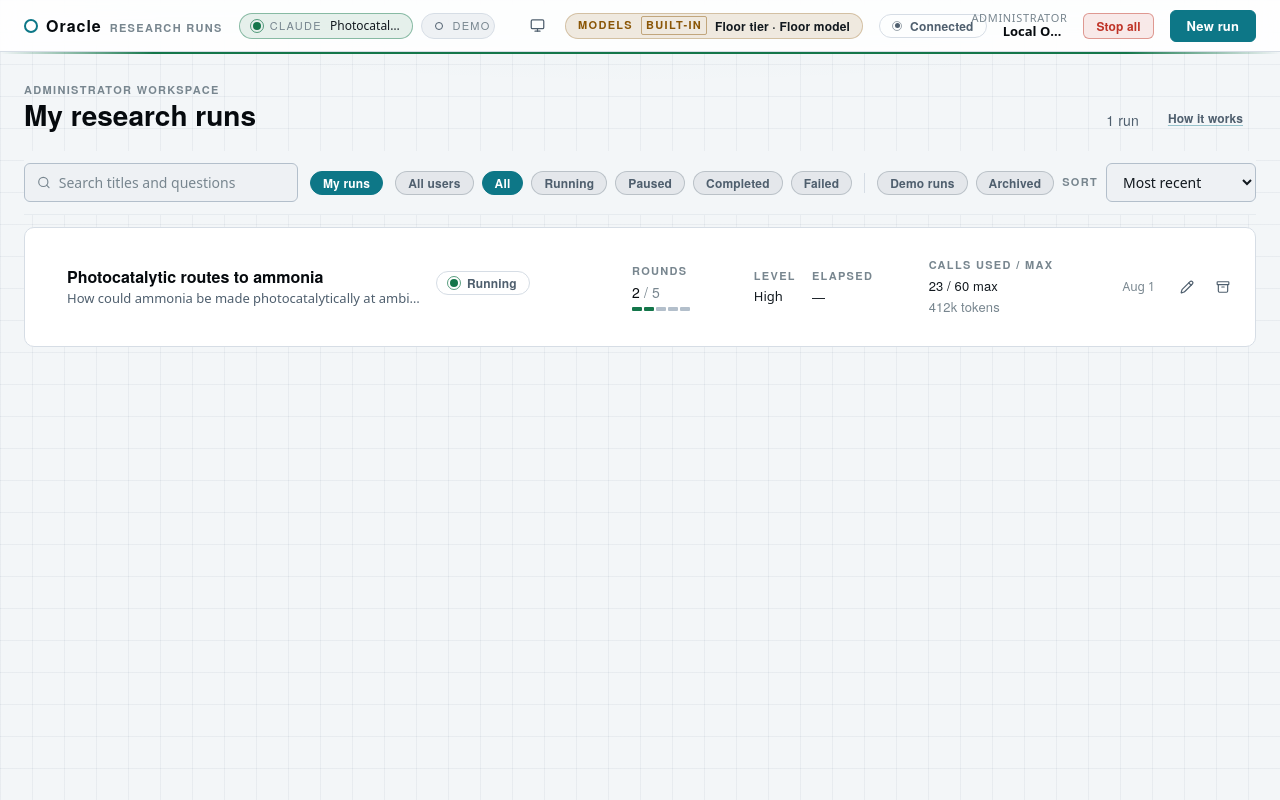
stop all › can be cancelled without touching anything
Step 1. Click the button "Stop all" → x=1118, y=26, box [1083,12,1154,38]
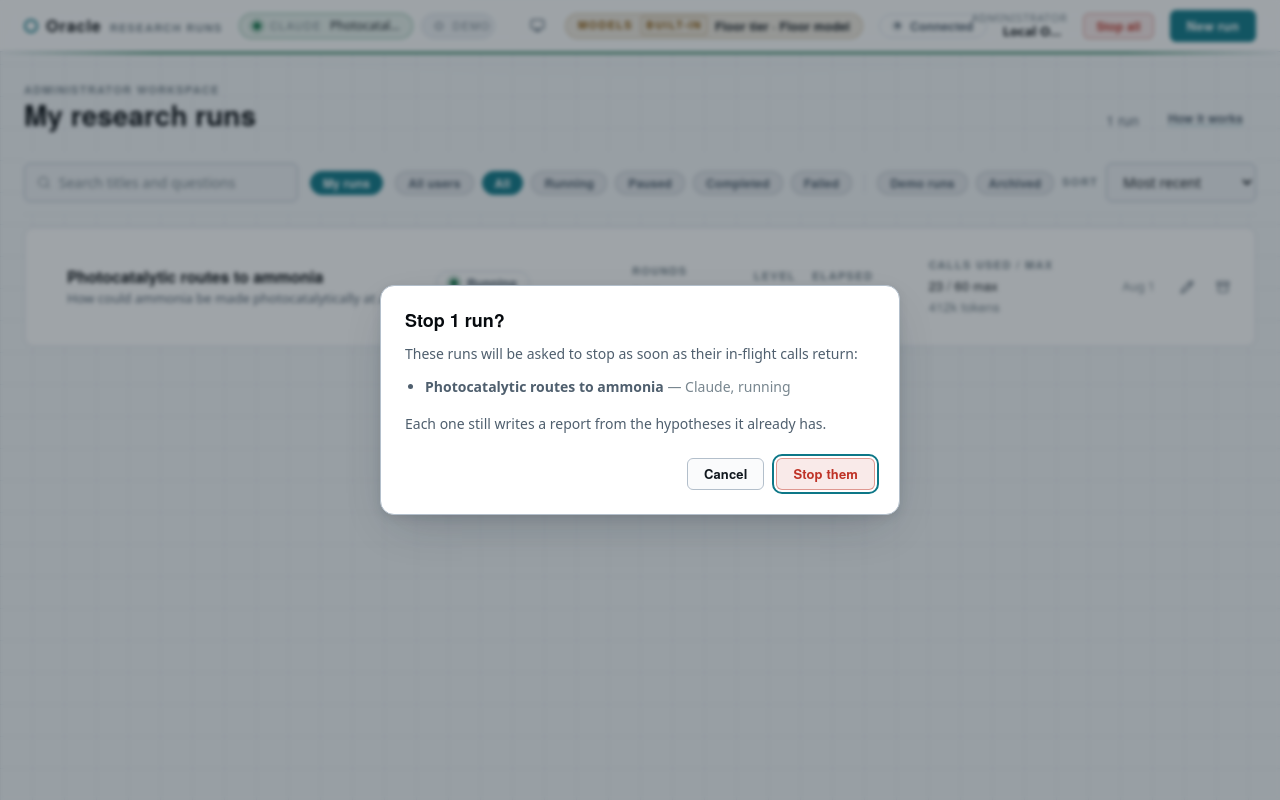
Step 2. Click the button "Cancel" → x=726, y=474, box [687,458,764,490]
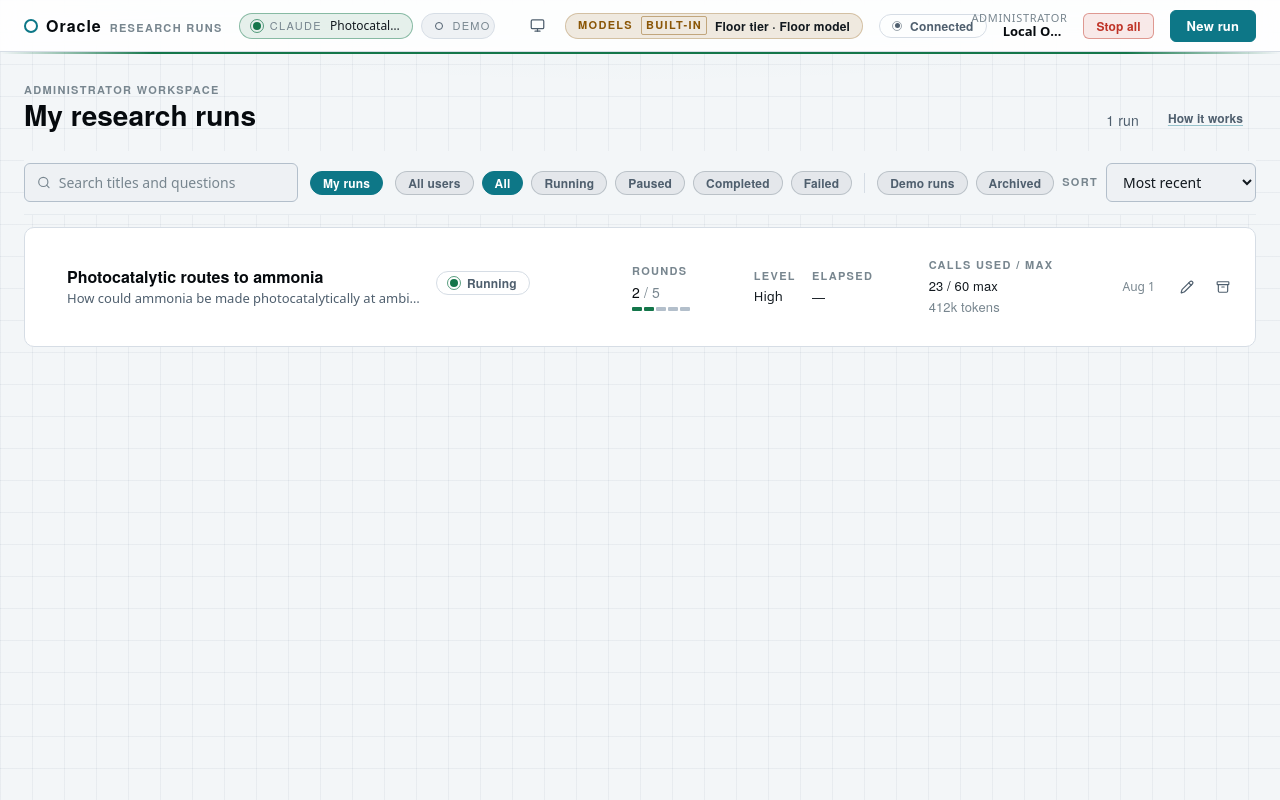
Check: the dialog is gone
